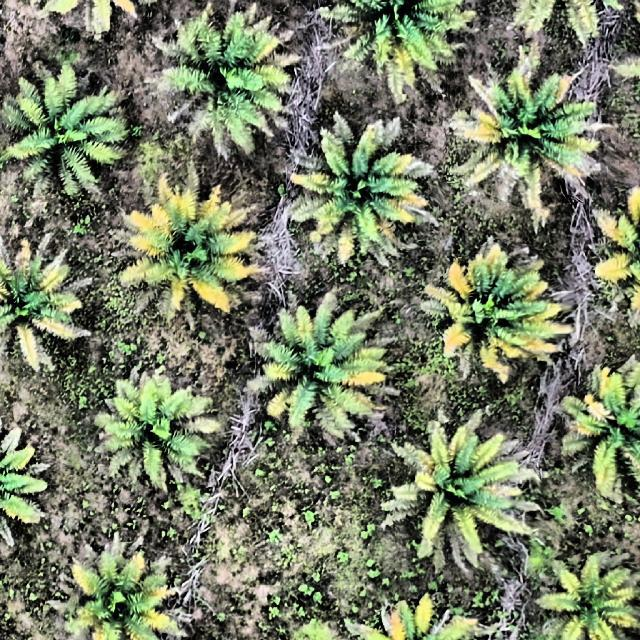Kelapa_Sawit: (376, 417, 540, 567), (162, 5, 300, 140), (246, 308, 388, 439), (303, 122, 430, 264), (464, 66, 600, 196), (126, 182, 254, 312), (437, 255, 558, 382), (11, 72, 133, 190), (324, 3, 482, 94), (48, 536, 182, 640), (0, 237, 94, 375), (104, 376, 216, 489), (569, 353, 640, 495), (0, 406, 52, 566), (540, 561, 640, 640), (342, 589, 481, 640), (592, 184, 640, 325)
